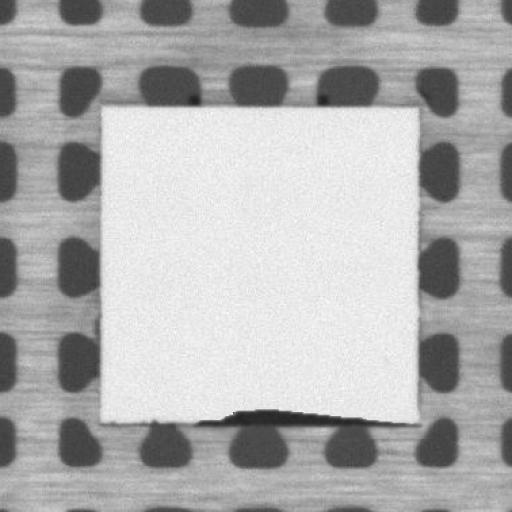DIE_BROKEN: (195, 400, 424, 429)
